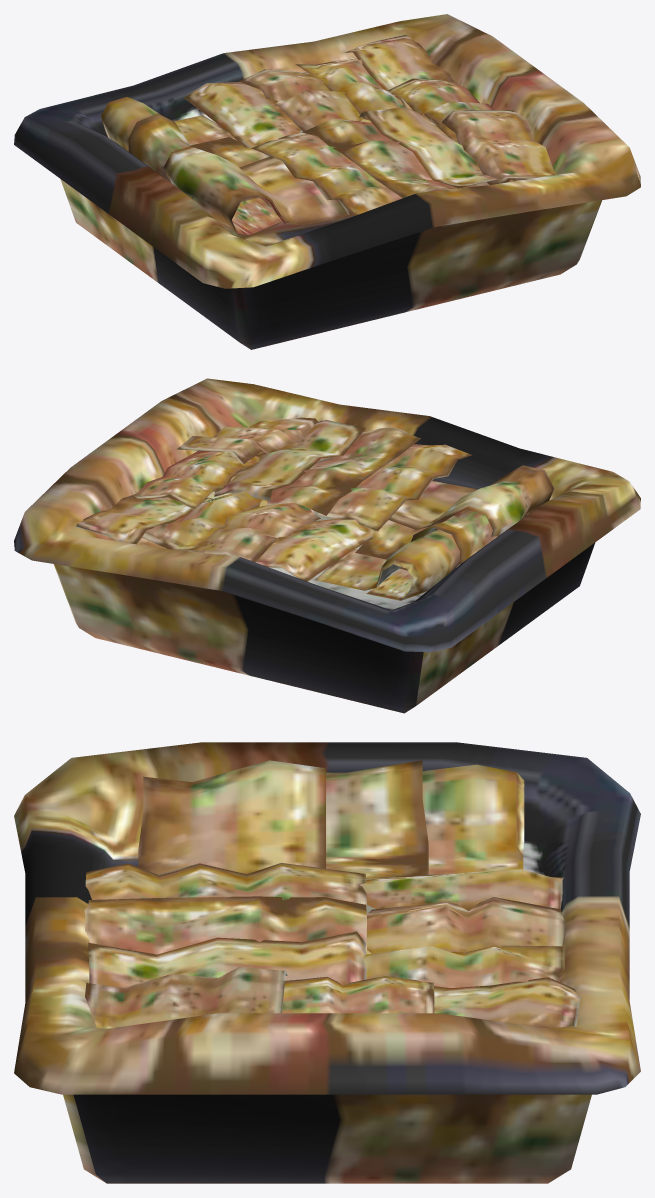
File: int_cvn_bedW.dae
3 renders of one model, top to bottom at view 1: azimuth 30°, elevation 25°; view 2: azimuth 150°, elevation 25°; view 3: azimuth 270°, elevation 25°, orthographic. The views are drawn at different scales.
Parts seen in each view (by area): view 1: int_cvn_bedW; view 2: int_cvn_bedW; view 3: int_cvn_bedW.
Boxes of the visible parts, x1,y1,x2,y2 form: int_cvn_bedW: [14, 14, 640, 349]; int_cvn_bedW: [14, 378, 640, 713]; int_cvn_bedW: [14, 742, 640, 1183].
Bounding box in the file's own units: 56.98 × 18.69 × 49.97.
1 material, 1 textured.
